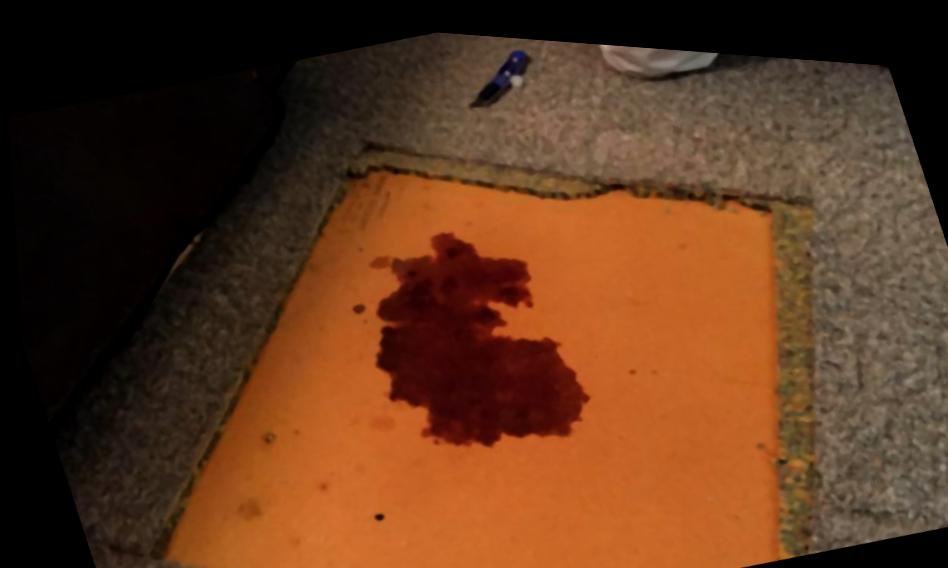Fire: (370, 225, 585, 441)
